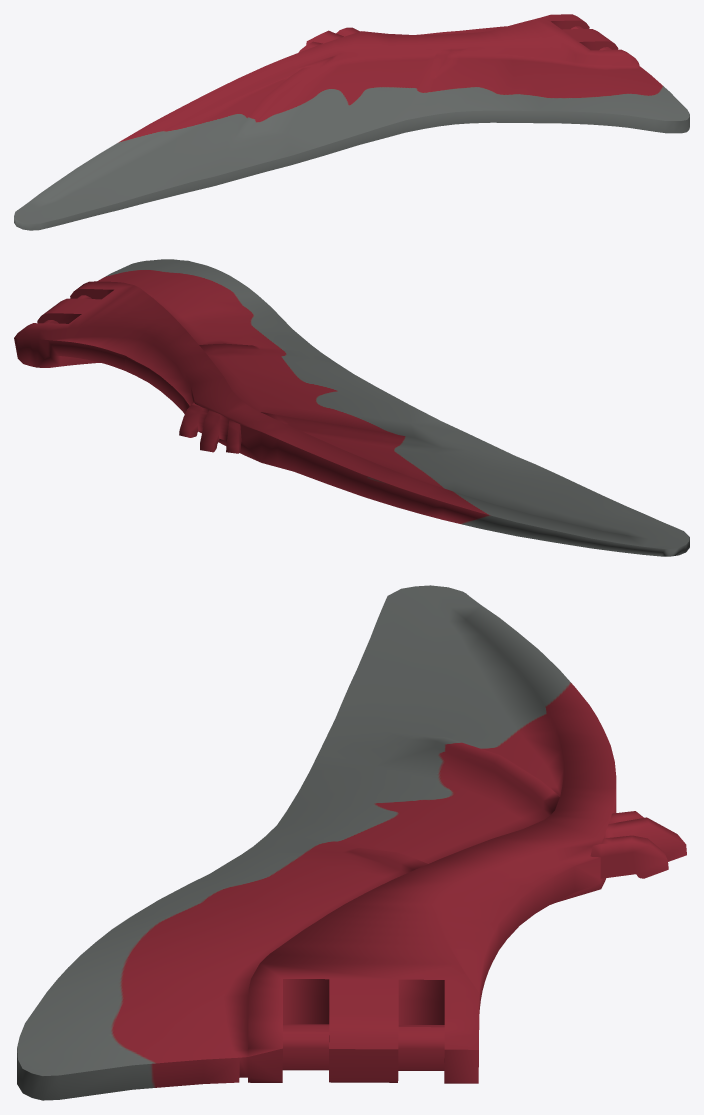
The model's file is ala-izquierda-ptero.obj.
3 renders of one model, top to bottom at view 1: azimuth 30°, elevation 25°; view 2: azimuth 150°, elevation 25°; view 3: azimuth 270°, elevation 25°, orthographic. The views are drawn at different scales.
Visible parts, largest first — view 1: ala_izquierda; view 2: ala_izquierda; view 3: ala_izquierda.
Part boxes in pixels (x1=…): ala_izquierda: x1=14, y1=14, x2=689, y2=230; ala_izquierda: x1=14, y1=259, x2=689, y2=556; ala_izquierda: x1=17, y1=585, x2=686, y2=1100.
Size of the model in its own units: 92.54 by 12.03 by 46.44.
Materials: 1 (1 with a texture image).
